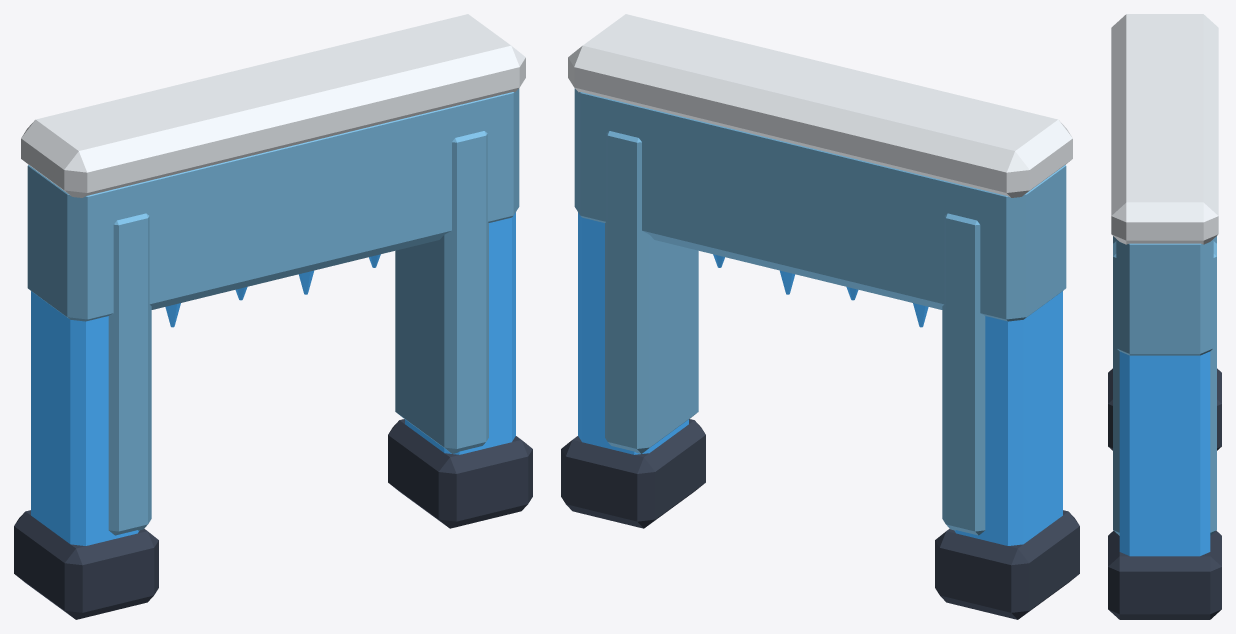
The model's file is Tundra_Obs_IceArch.fbx.
3 renders of one model, left to right at view 1: azimuth 30°, elevation 25°; view 2: azimuth 150°, elevation 25°; view 3: azimuth 270°, elevation 25°, orthographic. The views are drawn at different scales.
Visible parts, largest first — view 1: Tundra_Obs_IceArch; view 2: Tundra_Obs_IceArch; view 3: Tundra_Obs_IceArch.
Part boxes in pixels (x1=…): Tundra_Obs_IceArch: x1=14, y1=14, x2=532, y2=619; Tundra_Obs_IceArch: x1=561, y1=14, x2=1079, y2=619; Tundra_Obs_IceArch: x1=1108, y1=14, x2=1221, y2=619.
Bounding box in the file's own units: 2.88 × 2.73 × 0.68.
